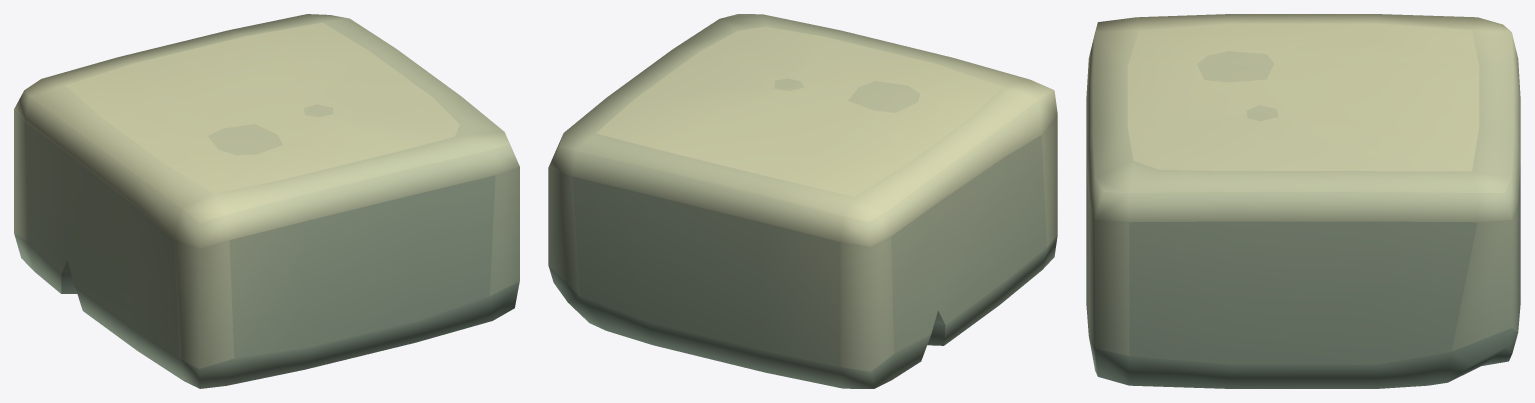
The model's file is block_stone1_3_half_light_LOD_group.fbx.
3 renders of one model, left to right at view 1: azimuth 30°, elevation 25°; view 2: azimuth 150°, elevation 25°; view 3: azimuth 270°, elevation 25°, orthographic. The views are drawn at different scales.
Visible parts, largest first — view 1: block_stone1_3_half_light_LOD0; view 2: block_stone1_3_half_light_LOD0; view 3: block_stone1_3_half_light_LOD0.
Part boxes in pixels (x1,y1,x2,y2): block_stone1_3_half_light_LOD0: (14, 14, 519, 388); block_stone1_3_half_light_LOD0: (548, 14, 1057, 388); block_stone1_3_half_light_LOD0: (1086, 14, 1520, 388).
Size of what is drawn, in the model's own units: 105 by 57.22 by 106.
1 material, 1 textured.
